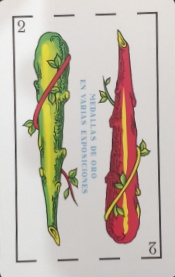2b: (11, 9, 160, 34)
